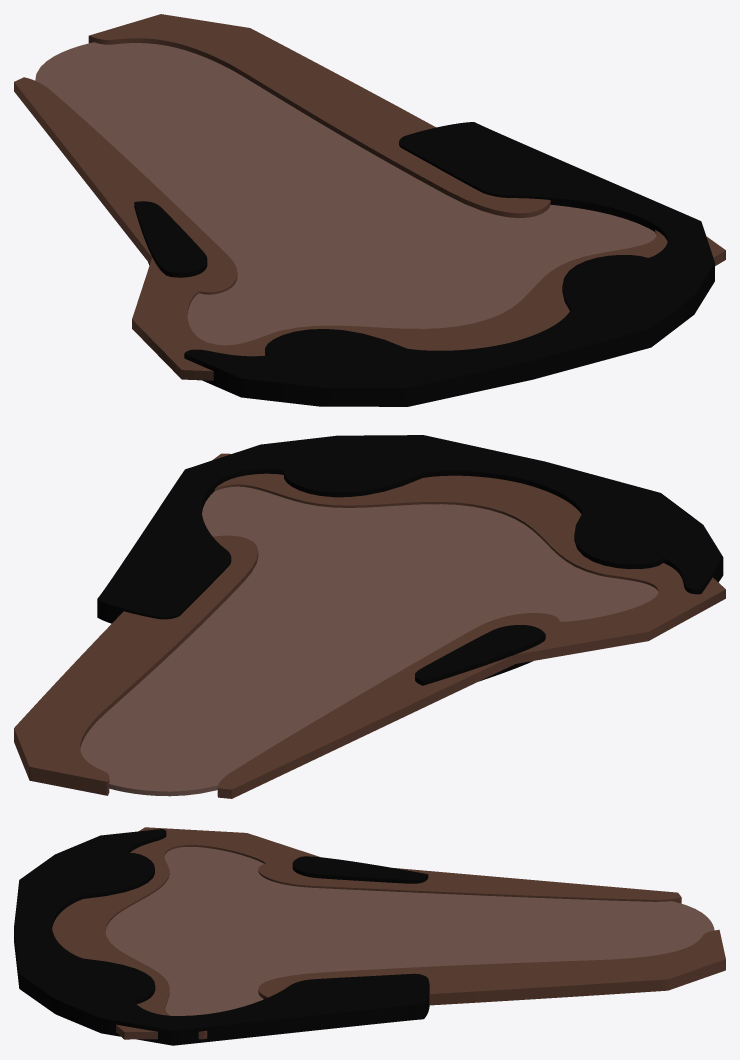
The model's file is emoji_u1f443_1f3ff.glb.
3 views of the same model, one above another, from view 1: azimuth 30°, elevation 25°; view 2: azimuth 150°, elevation 25°; view 3: azimuth 270°, elevation 25° (orthographic). The views are drawn at different scales.
Visible parts, largest first — view 1: emoji_u1f443_1f3ff; view 2: emoji_u1f443_1f3ff; view 3: emoji_u1f443_1f3ff.
Part boxes in pixels (x1,y1,x2,y2): emoji_u1f443_1f3ff: [14, 14, 725, 406]; emoji_u1f443_1f3ff: [14, 435, 725, 798]; emoji_u1f443_1f3ff: [14, 827, 725, 1045].
Size of the model in its own units: 0.0236 by 0.0008 by 0.0343.
